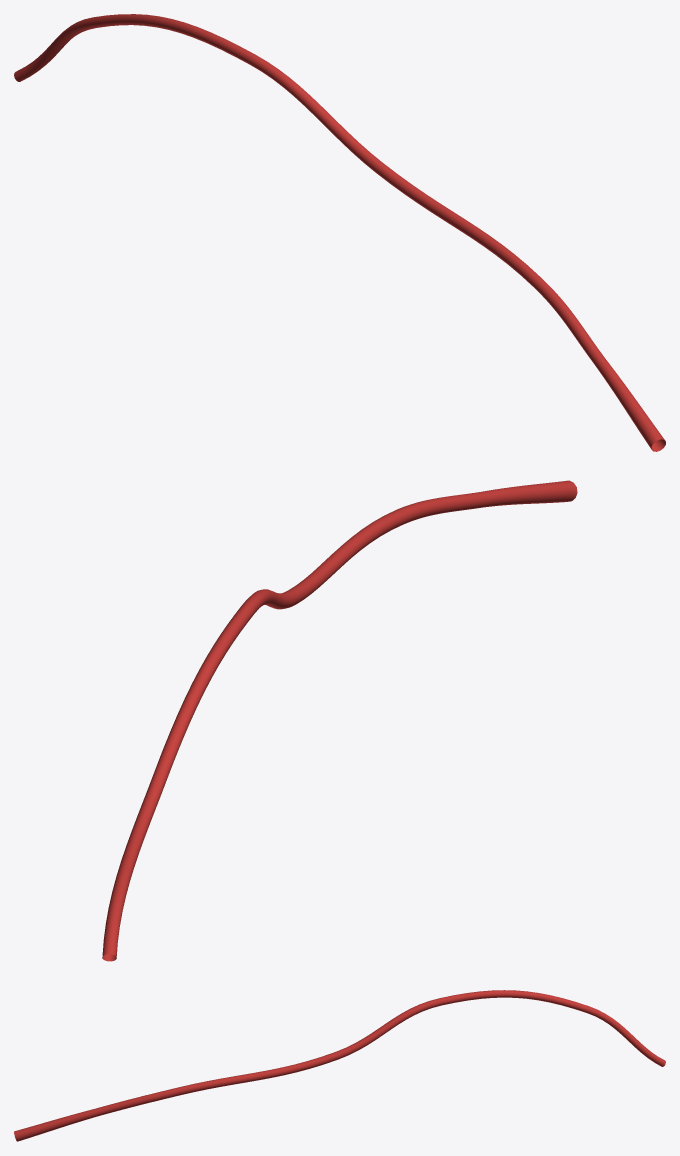
3 views of the same model, one above another, from view 1: azimuth 30°, elevation 25°; view 2: azimuth 150°, elevation 25°; view 3: azimuth 270°, elevation 25° (orthographic). The views are drawn at different scales.
Parts seen in each view (by area): view 1: 右侧尺侧上副动脉; view 2: 右侧尺侧上副动脉; view 3: 右侧尺侧上副动脉.
Boxes of the visible parts, left/top/right/bottom form: 右侧尺侧上副动脉: left=14, top=14, right=665, bottom=451; 右侧尺侧上副动脉: left=102, top=480, right=577, bottom=961; 右侧尺侧上副动脉: left=14, top=990, right=665, bottom=1141.
Size of the model in its own units: 0.0327 by 0.0357 by 0.1766.
